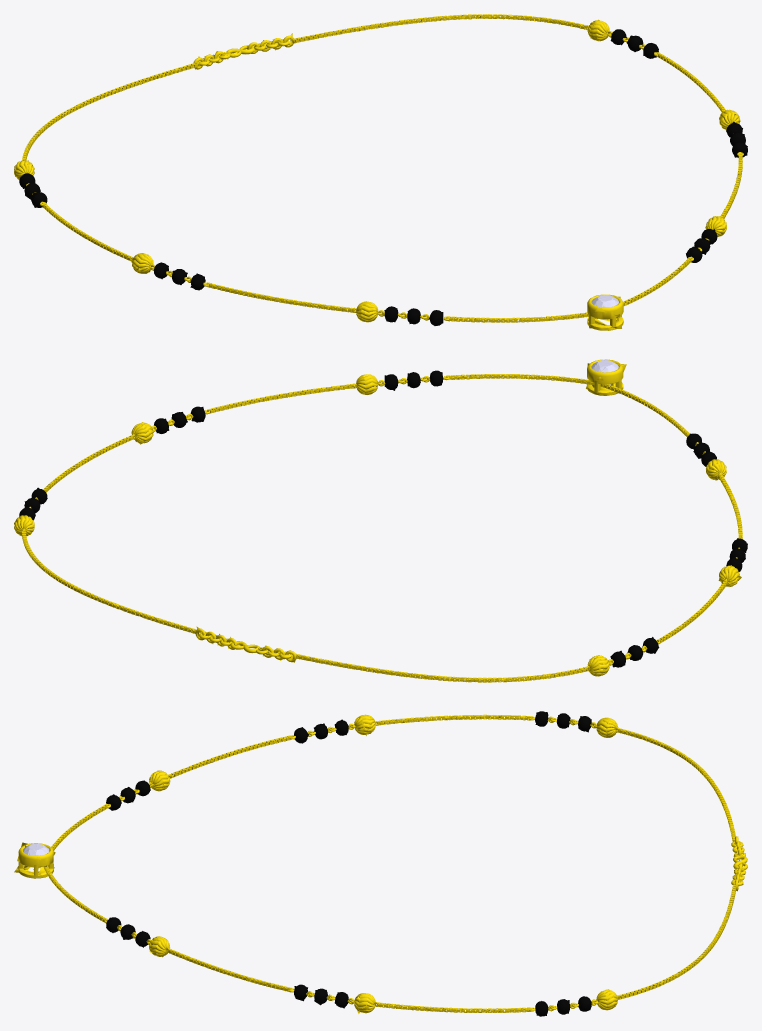
3 views of the same model, one above another, from view 1: azimuth 30°, elevation 25°; view 2: azimuth 150°, elevation 25°; view 3: azimuth 270°, elevation 25° (orthographic). The views are drawn at different scales.
Parts seen in each view (by area): view 1: highPolyMesh, lowPolyMesh; view 2: highPolyMesh, lowPolyMesh; view 3: highPolyMesh, lowPolyMesh.
Part boxes in pixels (x1,y1,x2,y2): highPolyMesh: [14, 14, 747, 330]; lowPolyMesh: [14, 14, 747, 328]; highPolyMesh: [14, 359, 747, 682]; lowPolyMesh: [14, 359, 747, 682]; highPolyMesh: [18, 711, 747, 1016]; lowPolyMesh: [14, 712, 745, 1015].
Size of the model in its own units: 0.1357 by 0.00593 by 0.1419.
